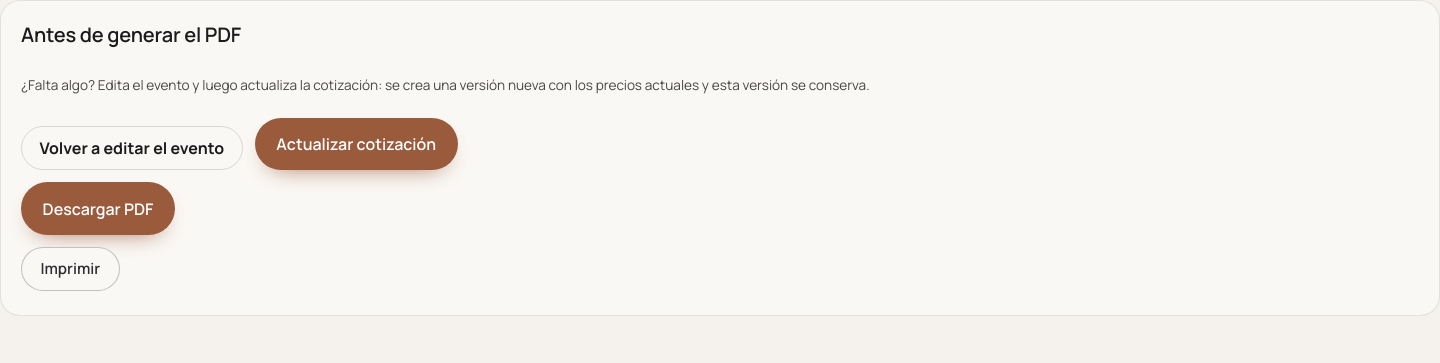
QuoteActions (DECOR-51) › muestra el error de la API sin navegar
This screenshot has width=1440, height=363.
Click the button "Actualizar cotización": click(356, 144) [255, 118, 458, 170]
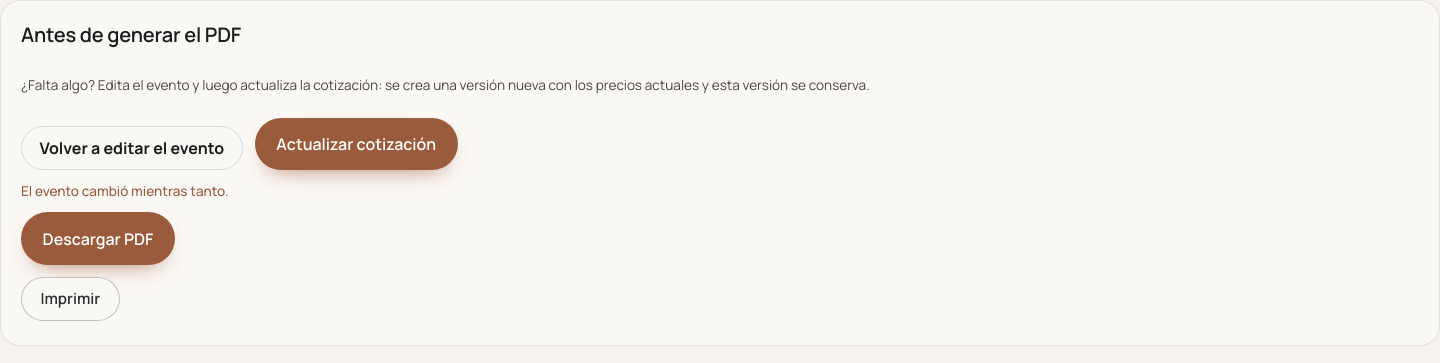
expect the message reads "El evento cambió mientras tanto.": met, box [21, 182, 229, 200]
